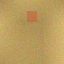vehicle: (26, 10, 36, 21)
